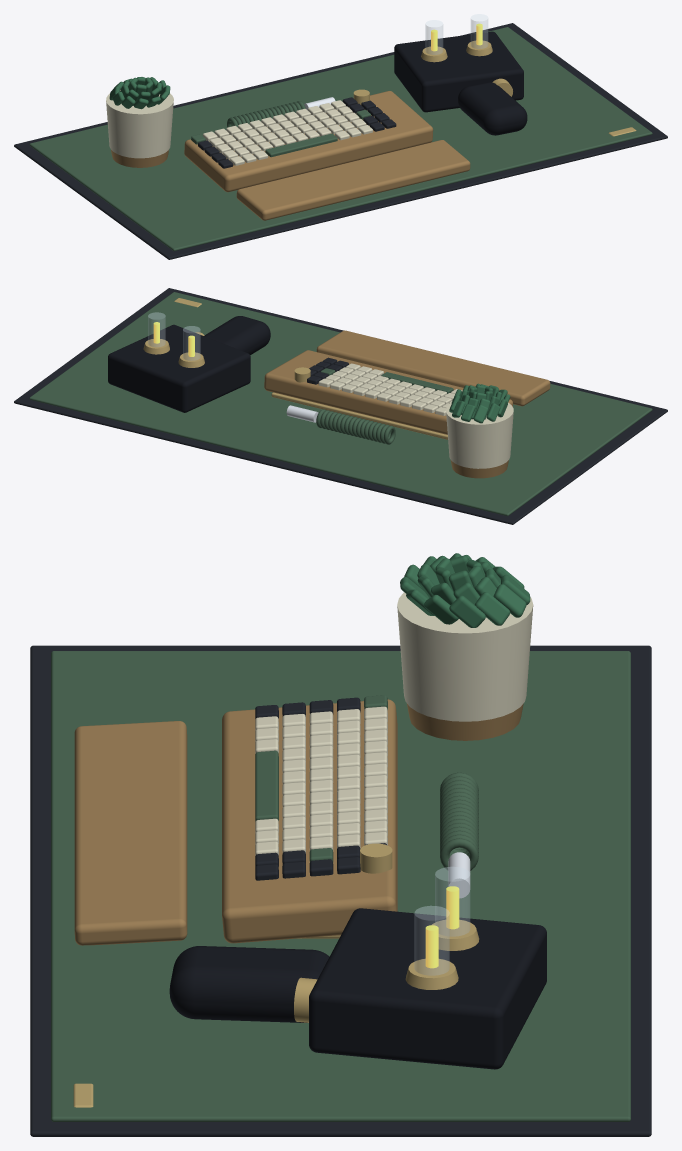
File: atelier-decor-mechanical-matcha.glb
The picture shows the model from 3 angles, top to bottom: view 1: azimuth 30°, elevation 25°; view 2: azimuth 150°, elevation 25°; view 3: azimuth 270°, elevation 25°; orthographic projection. The views are drawn at different scales.
Bounding box in the file's own units: 0.78 × 0.1226 × 0.4201.
